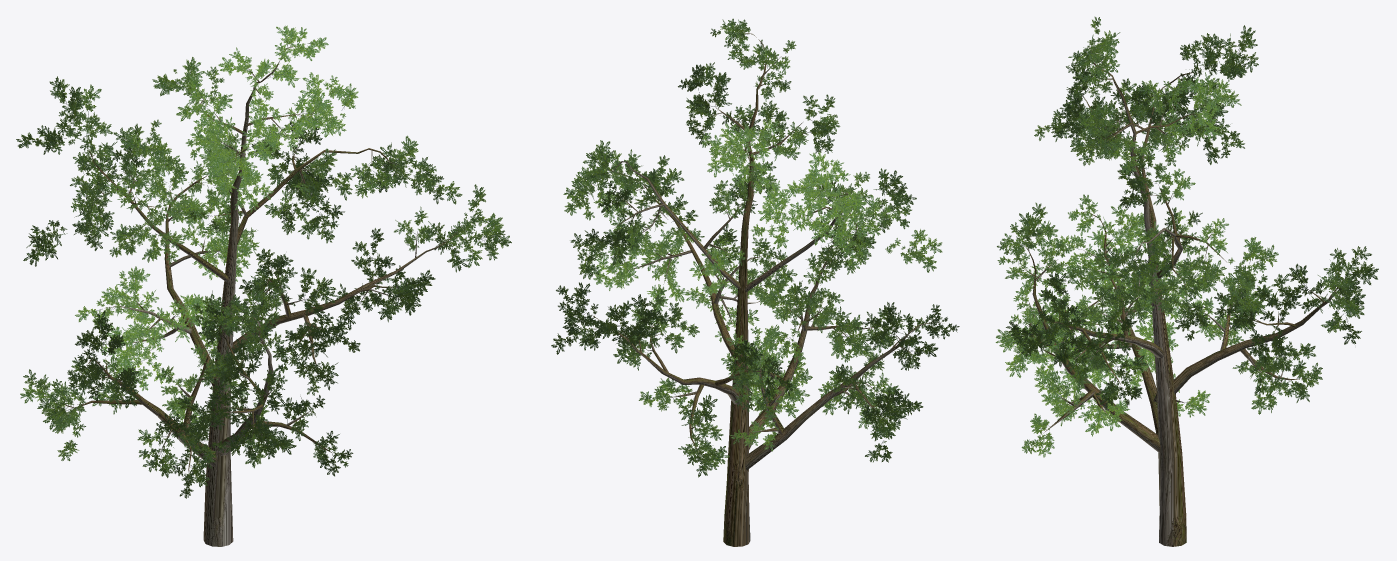
Rendered from ash.glb.
3 views of the same model, side by side, from view 1: azimuth 30°, elevation 25°; view 2: azimuth 150°, elevation 25°; view 3: azimuth 270°, elevation 25° (orthographic). The views are drawn at different scales.
Visible parts, largest first — view 1: ash-leaves, ash-bark; view 2: ash-leaves, ash-bark; view 3: ash-leaves, ash-bark.
Part boxes in pixels (x1,y1,x2,y2): ash-leaves: (16,25,511,498); ash-bark: (65,43,462,546); ash-leaves: (551,18,959,477); ash-bark: (586,33,942,546); ash-leaves: (995,16,1378,457); ash-bark: (1020,46,1340,546).
Size of the model in its own units: 8.93 by 10.5 by 7.05.
Materials: 2 (2 with a texture image).
